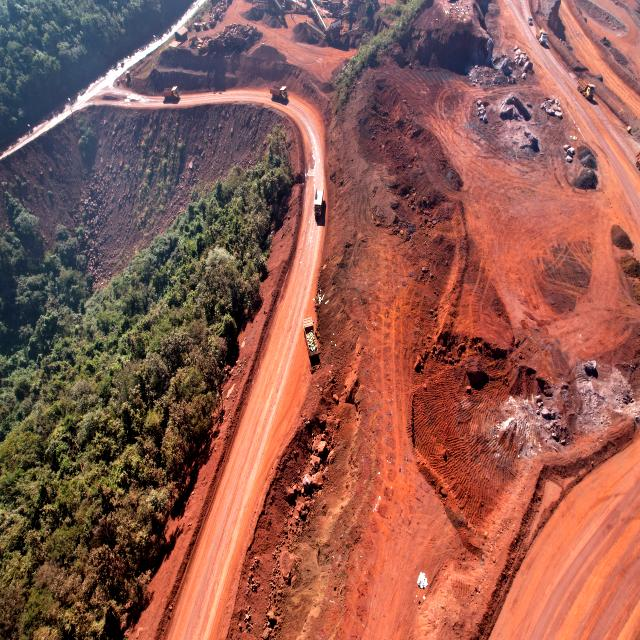Dumper truck: (303, 319, 322, 354), (579, 77, 595, 100), (314, 188, 324, 216), (270, 85, 287, 99), (163, 87, 180, 100), (538, 28, 547, 43), (634, 149, 640, 168)
Excavator: (208, 11, 216, 26)
car: (528, 16, 533, 24)
person: (544, 103, 546, 111), (460, 0, 463, 5), (547, 114, 549, 121), (468, 7, 470, 13), (456, 14, 458, 20), (451, 13, 453, 18)
